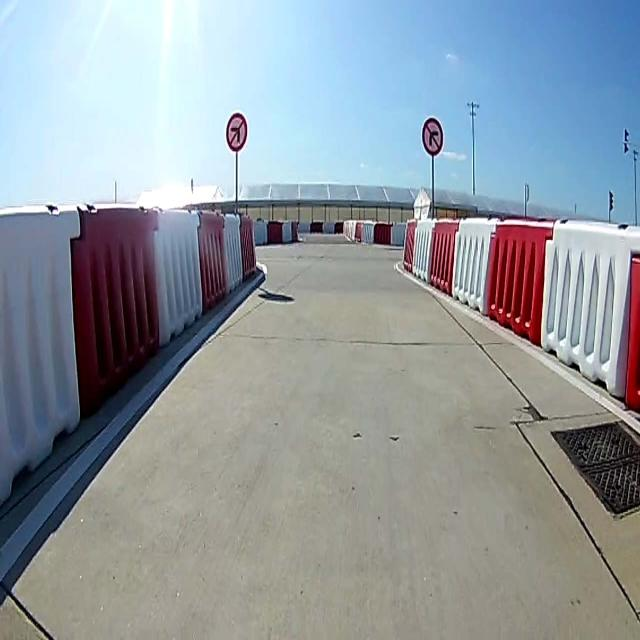sagadonulmez: (421, 116, 443, 154)
soladonulmez: (227, 114, 246, 150)
